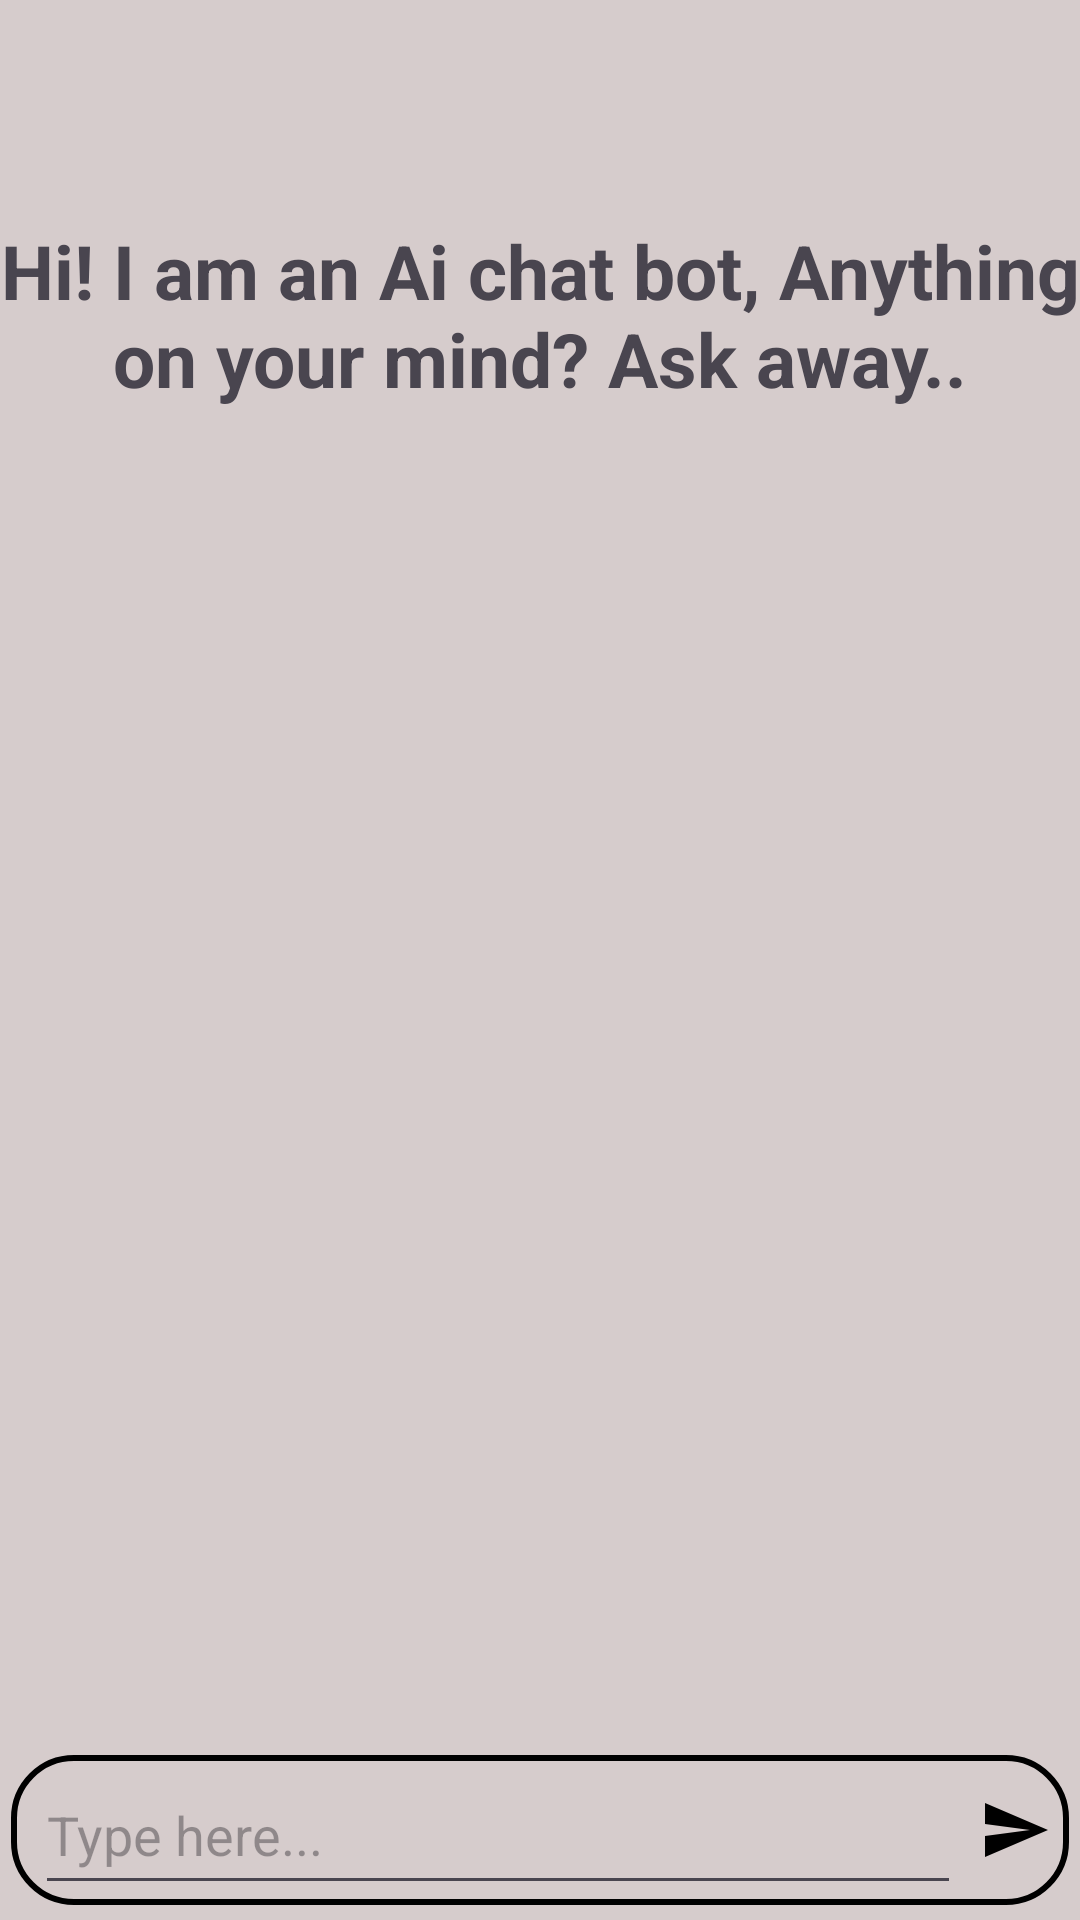

Icon bounding boxes for this 1080w x 1920h phone screenshot, format (x1, y1, x2, y2):
send: (985, 1803, 1048, 1857)
